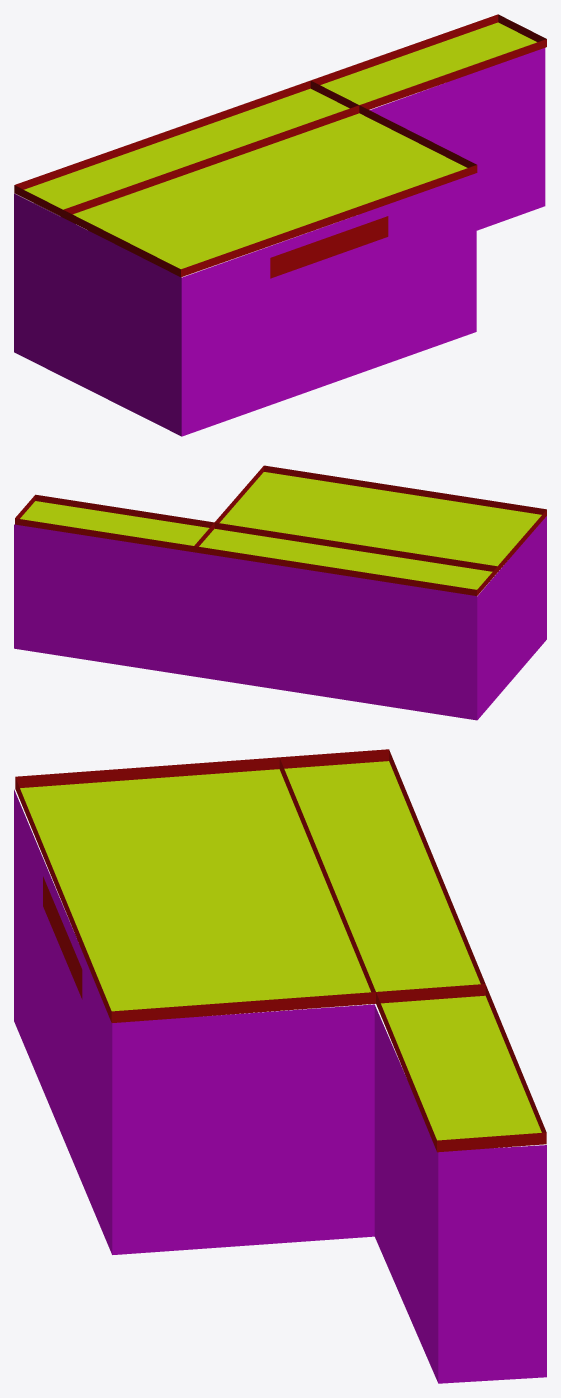
The model's file is sdt_7.glb.
The picture shows the model from 3 angles, top to bottom: view 1: azimuth 30°, elevation 25°; view 2: azimuth 150°, elevation 25°; view 3: azimuth 270°, elevation 25°; orthographic projection. The views are drawn at different scales.
Visible parts, largest first — view 1: sdt_7; view 2: sdt_7; view 3: sdt_7.
Part boxes in pixels (box(x1,y1,x2,y2)): sdt_7: box(14, 14, 546, 436); sdt_7: box(14, 465, 546, 720); sdt_7: box(14, 749, 546, 1383).
Size of the model in its own units: 24.87 by 7.23 by 14.31.
